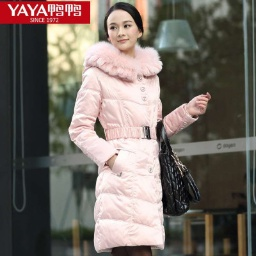face: (100, 1, 154, 57)
